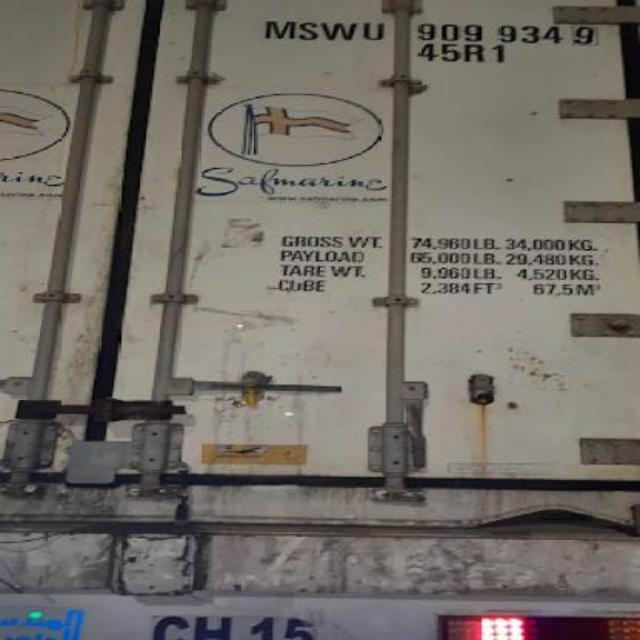0: (438, 21, 459, 41)
3: (522, 24, 544, 42)
4: (544, 24, 568, 42)
9: (412, 22, 440, 42), (572, 25, 596, 45), (496, 24, 520, 42), (462, 25, 484, 41)
M: (264, 20, 298, 40)
S: (296, 21, 320, 41)
U: (360, 22, 388, 42)
W: (320, 23, 362, 41)
